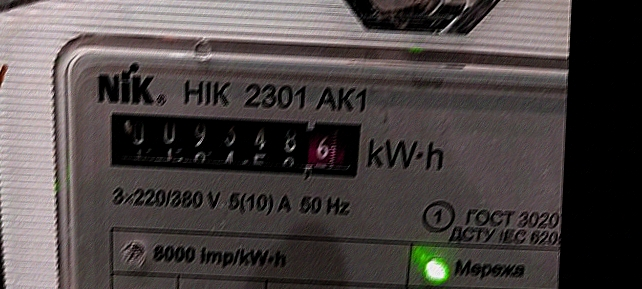0: (130, 117, 144, 144), (160, 119, 176, 142)
3: (221, 120, 236, 147)
4: (251, 122, 266, 149)
6: (312, 132, 331, 159)
8: (281, 124, 297, 153)
9: (190, 120, 206, 147)
screen: (98, 104, 369, 185)
